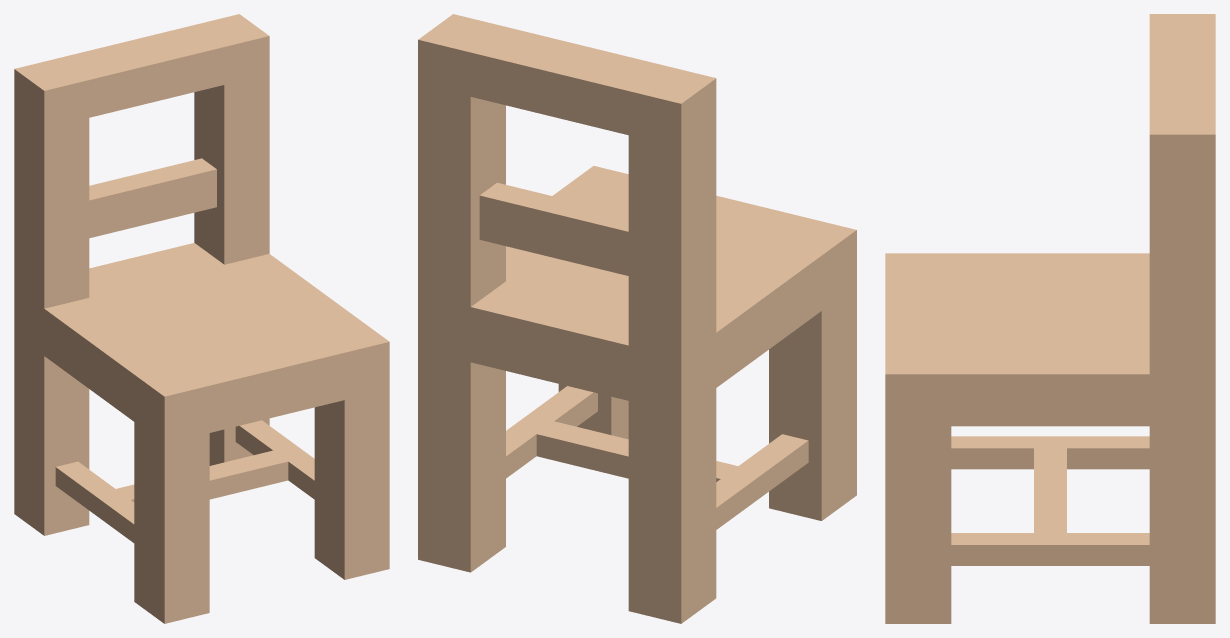
The model's file is kenney-chair.glb.
3 views of the same model, side by side, from view 1: azimuth 30°, elevation 25°; view 2: azimuth 150°, elevation 25°; view 3: azimuth 270°, elevation 25° (orthographic). The views are drawn at different scales.
Parts seen in each view (by area): view 1: chair(Clone); view 2: chair(Clone); view 3: chair(Clone).
Boxes of the visible parts, x1=… form: chair(Clone): x1=14, y1=14, x2=389, y2=623; chair(Clone): x1=418, y1=14, x2=856, y2=623; chair(Clone): x1=885, y1=14, x2=1215, y2=623.
Bounding box in the file's own units: 0.4501 × 0.85 × 0.5201.
